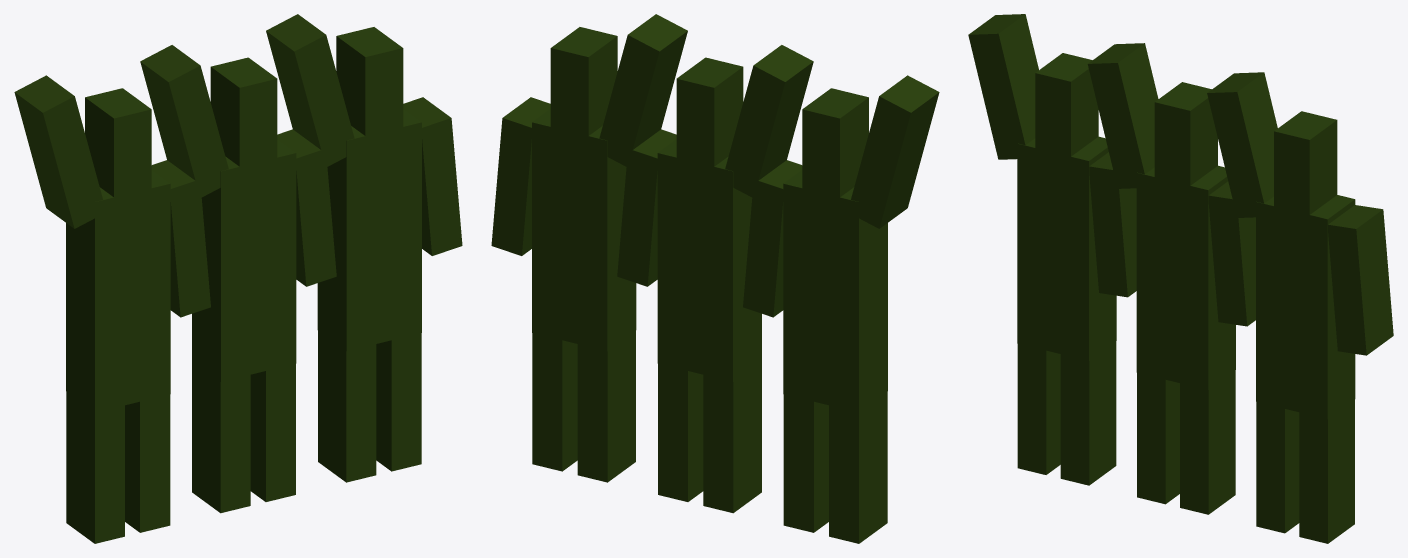
File: RevolutionByCrowd.fbx
The picture shows the model from 3 angles, left to right: view 1: azimuth 30°, elevation 25°; view 2: azimuth 150°, elevation 25°; view 3: azimuth 330°, elevation 25°; orthographic projection. The views are drawn at different scales.
Visible parts, largest first — view 1: Cube.001; view 2: Cube.001; view 3: Cube.001.
Part boxes in pixels (x1=…): Cube.001: x1=14, y1=14, x2=462, y2=543; Cube.001: x1=491, y1=14, x2=939, y2=543; Cube.001: x1=968, y1=14, x2=1393, y2=543.
Size of the model in its own units: 167 by 172 by 20.
